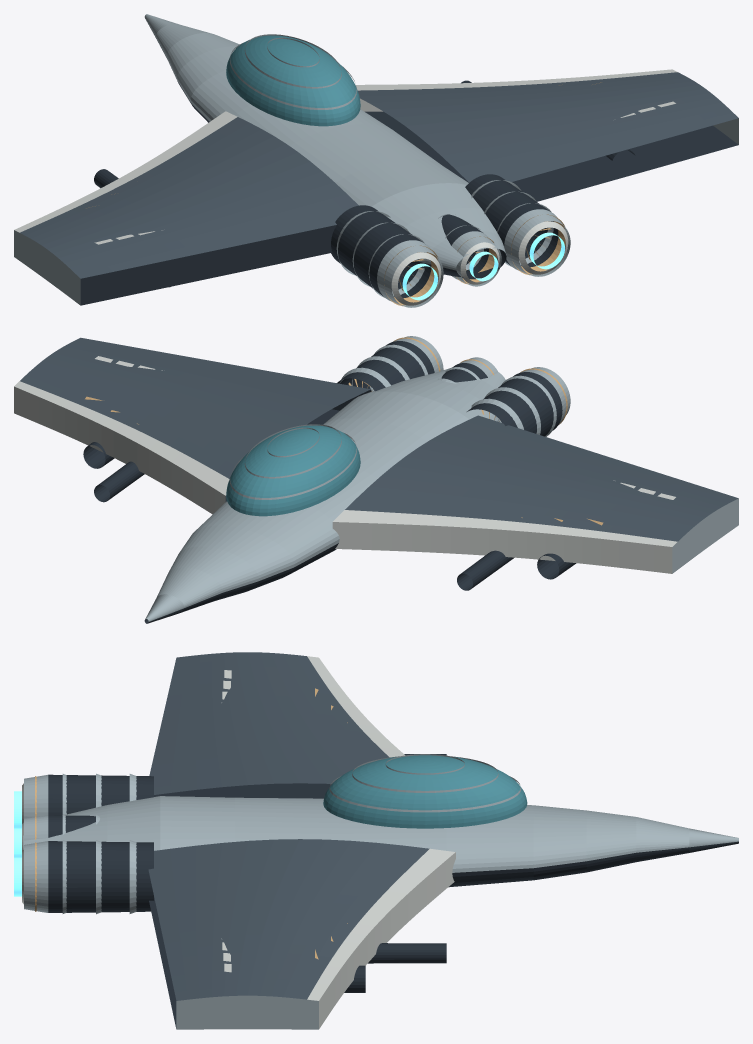
The model's file is nx08_interceptor_r8.gltf.
3 renders of one model, top to bottom at view 1: azimuth 30°, elevation 25°; view 2: azimuth 150°, elevation 25°; view 3: azimuth 270°, elevation 25°, orthographic. The views are drawn at different scales.
Visible parts, largest first — view 1: NEBULA_R8_SculptedHero; view 2: NEBULA_R8_SculptedHero; view 3: NEBULA_R8_SculptedHero.
Part boxes in pixels (x1=…): NEBULA_R8_SculptedHero: x1=14, y1=14, x2=738, y2=307; NEBULA_R8_SculptedHero: x1=14, y1=336, x2=738, y2=623; NEBULA_R8_SculptedHero: x1=14, y1=652, x2=738, y2=1029.
Bounding box in the file's own units: 13.06 × 2.18 × 11.65.
